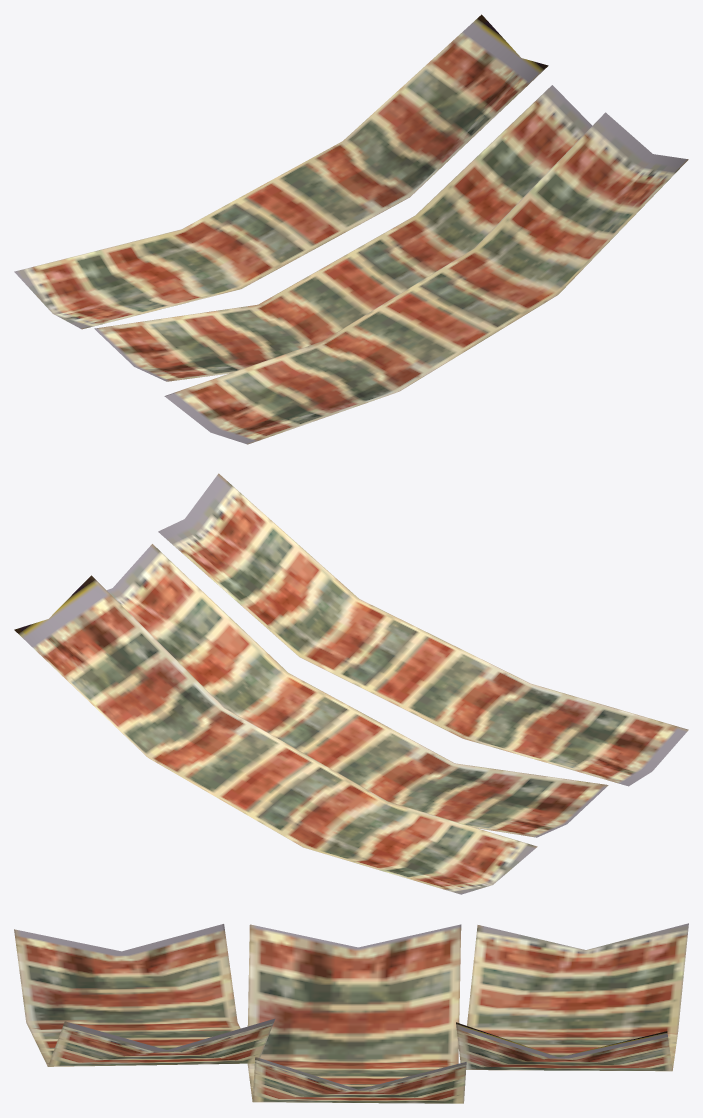
Rendered from building_e_tarp_siege_camp.glb.
3 views of the same model, one above another, from view 1: azimuth 30°, elevation 25°; view 2: azimuth 150°, elevation 25°; view 3: azimuth 270°, elevation 25° (orthographic). The views are drawn at different scales.
Visible parts, largest first — view 1: MeshRoot; view 2: MeshRoot; view 3: MeshRoot.
Boxes of the visible parts, x1,y1,x2,y2 form: MeshRoot: (14, 14, 688, 444); MeshRoot: (14, 473, 688, 894); MeshRoot: (14, 923, 688, 1103).
Size of the model in its own units: 4.61 by 1.62 by 3.89.
Materials: 1 (1 with a texture image).
